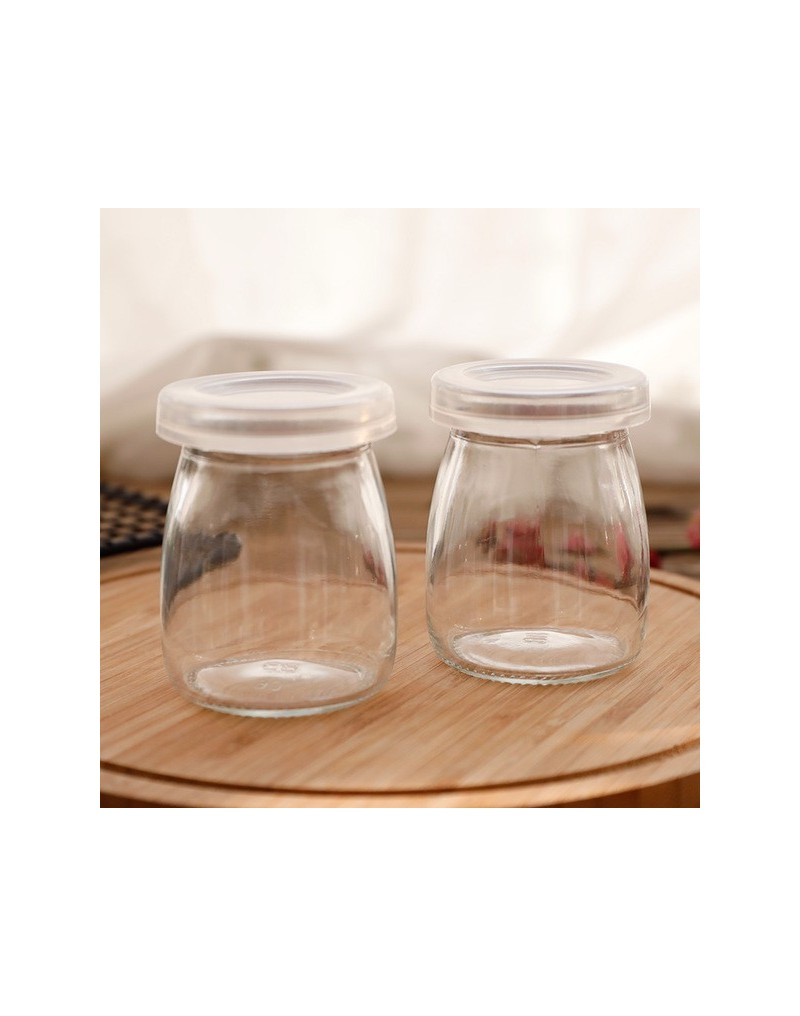glass_bottle: (132, 363, 410, 730), (422, 350, 673, 701)
